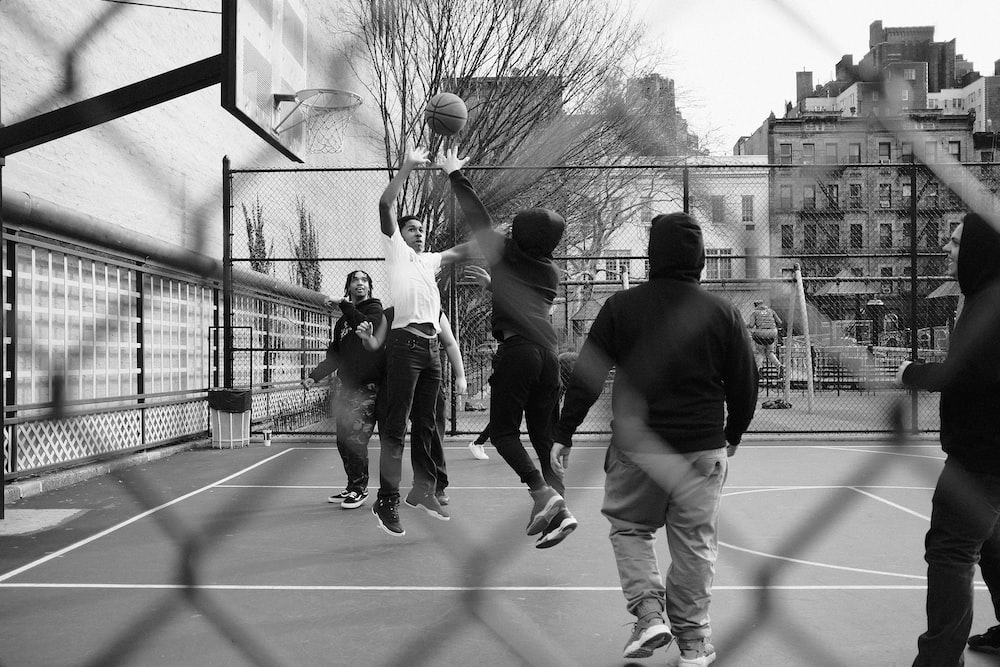b_ball: (419, 90, 473, 140)
basket: (266, 86, 368, 161)
face: (935, 214, 1000, 295), (402, 213, 437, 258), (339, 264, 374, 302)
player: (549, 190, 770, 660), (435, 141, 582, 538), (883, 202, 1000, 667), (373, 140, 467, 552), (302, 261, 389, 510)
